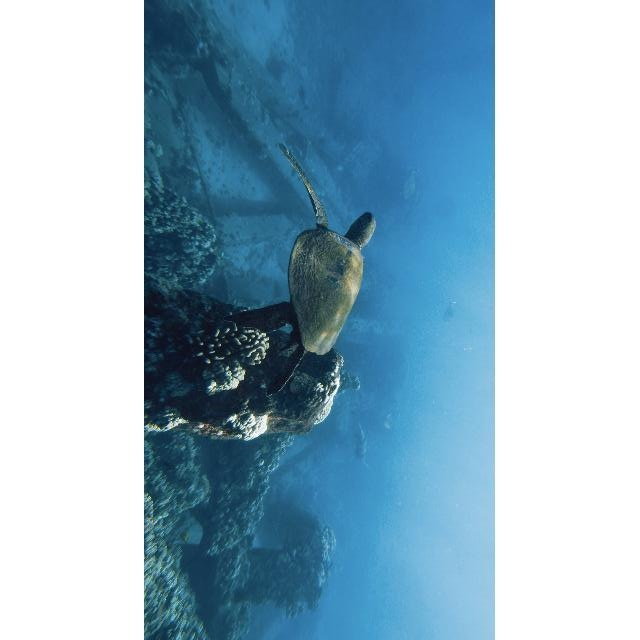turtle: (228, 143, 378, 393)
